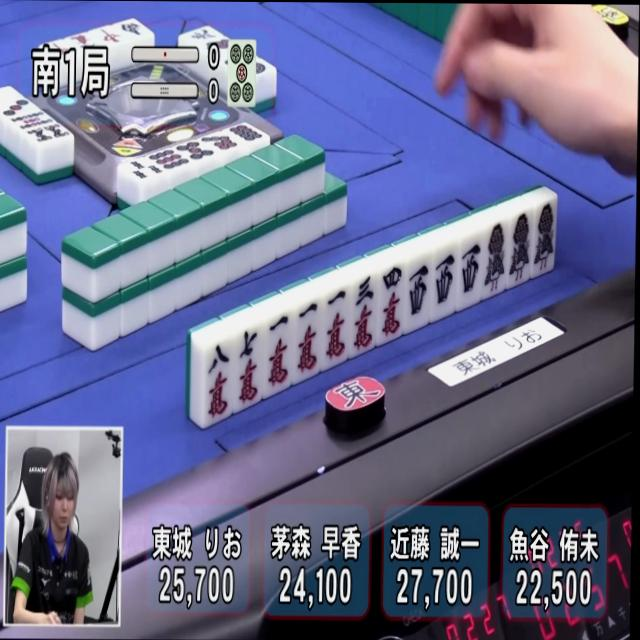m1: (261, 311, 297, 393), (319, 285, 355, 366), (292, 300, 327, 381)
m3: (348, 275, 383, 357)
m4: (375, 263, 409, 344)
m7: (234, 325, 268, 408)
m8: (199, 340, 238, 427)
s1: (480, 219, 511, 299), (507, 209, 536, 289), (529, 198, 558, 278)
t5: (228, 41, 256, 106)
west: (455, 232, 487, 306), (403, 255, 435, 328), (427, 245, 458, 319)
